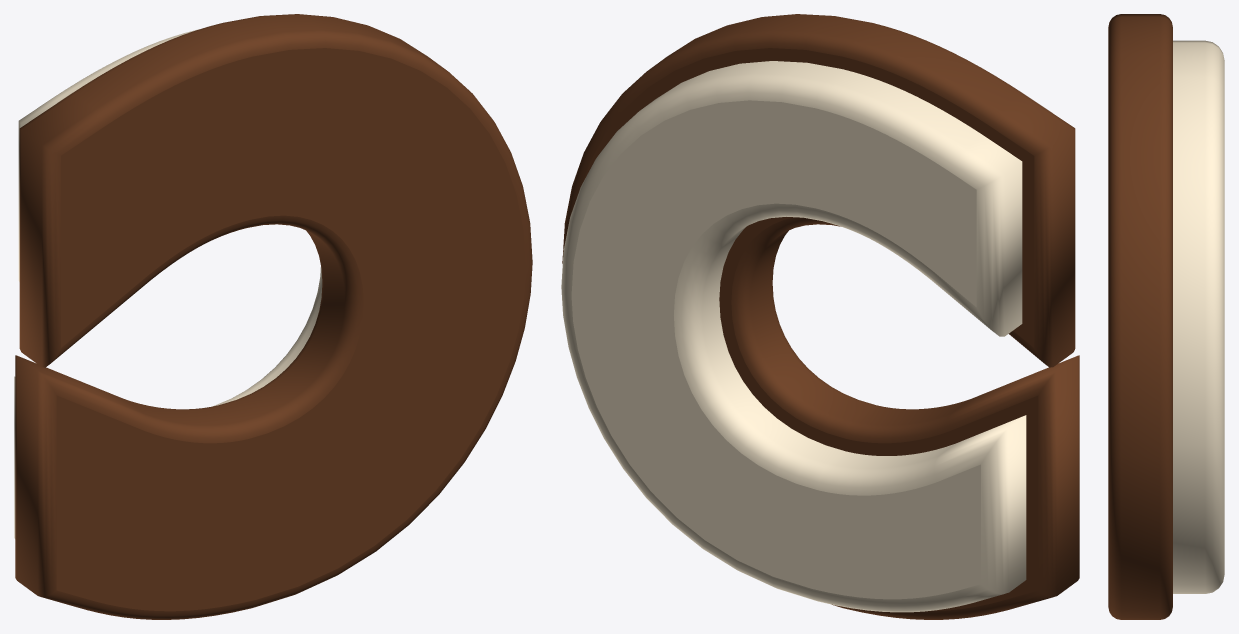
File: Letter_C.fbx
3 renders of one model, left to right at view 1: azimuth 30°, elevation 25°; view 2: azimuth 150°, elevation 25°; view 3: azimuth 270°, elevation 25°, orthographic. The views are drawn at different scales.
Visible parts, largest first — view 1: Letter_C; view 2: Letter_C; view 3: Letter_C.
Part boxes in pixels (x1,y1,x2,y2): Letter_C: (14, 14, 532, 619); Letter_C: (561, 14, 1079, 619); Letter_C: (1108, 14, 1224, 619).
Size of the model in its own units: 0.8252 by 0.9101 by 0.18.
1 material, 1 textured.
